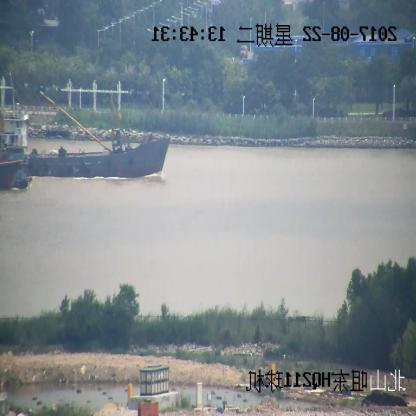Fishing Boat: (0, 79, 169, 178), (0, 150, 28, 190)
